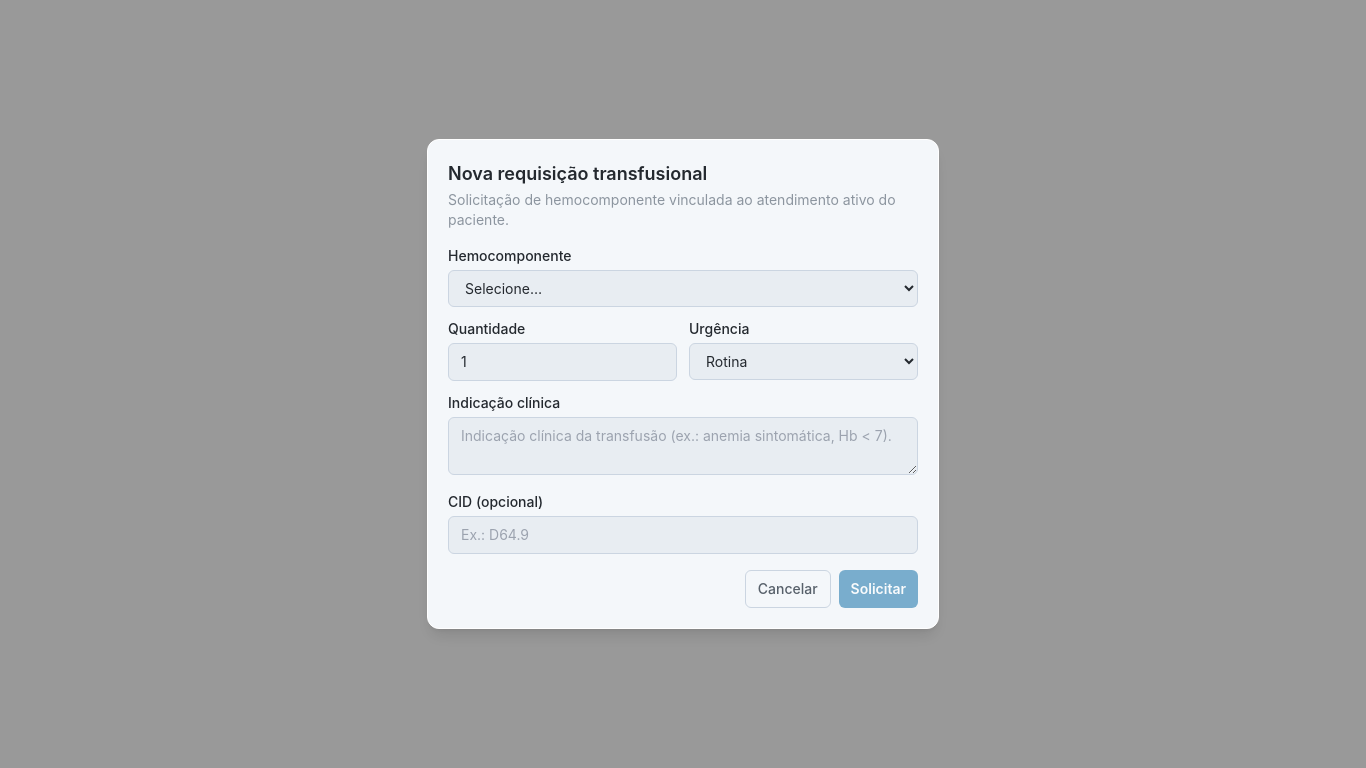
Test: TransfusionRequestForm › surfaces backend field validation errors (400) inline
The width and height of the screenshot is (1366, 768).
Step 1. Select "Concentrado de hemácias (CH)" in the dropdown labelled "Hemocomponente" → [683, 288], box [448,270,918,307]
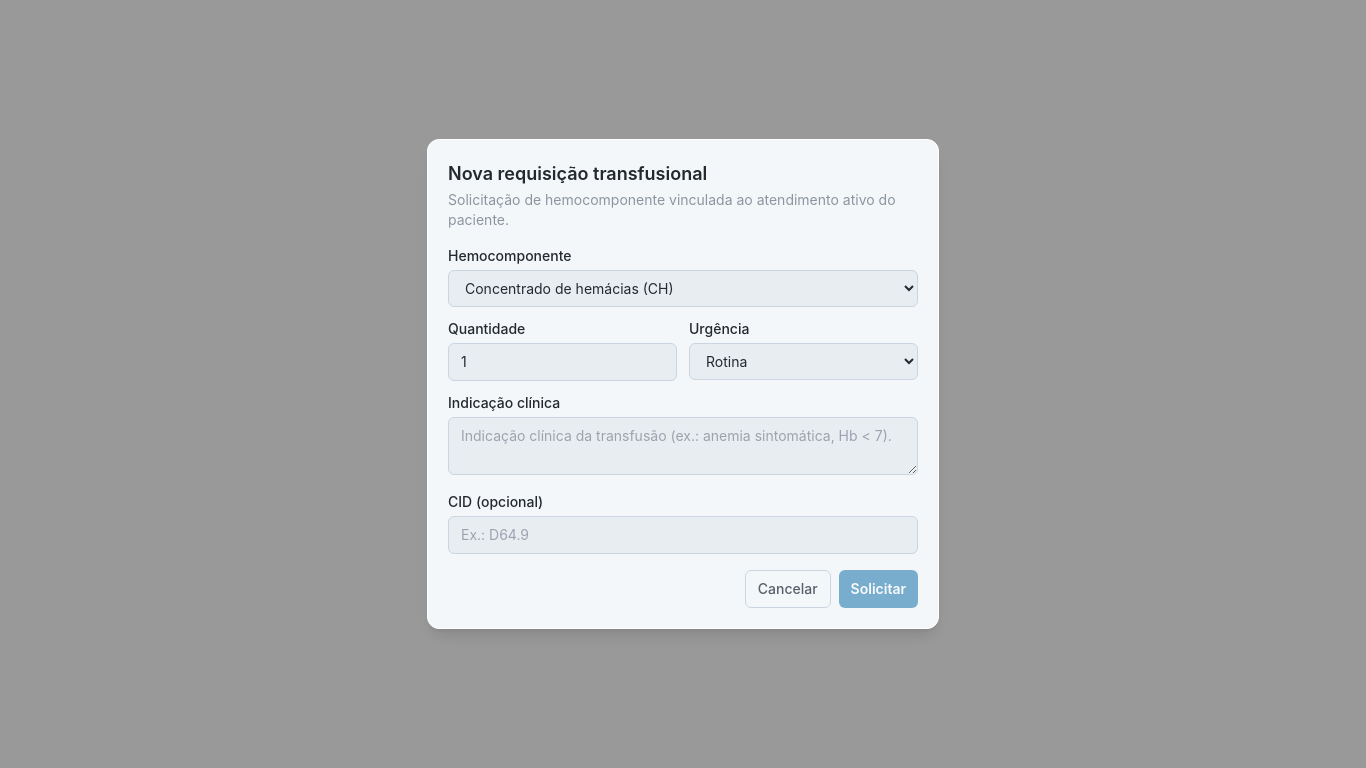
Step 2. Replace the text in the text box labelled "Indicação clínica" with "Anemia" → [683, 446], box [448,417,918,475]
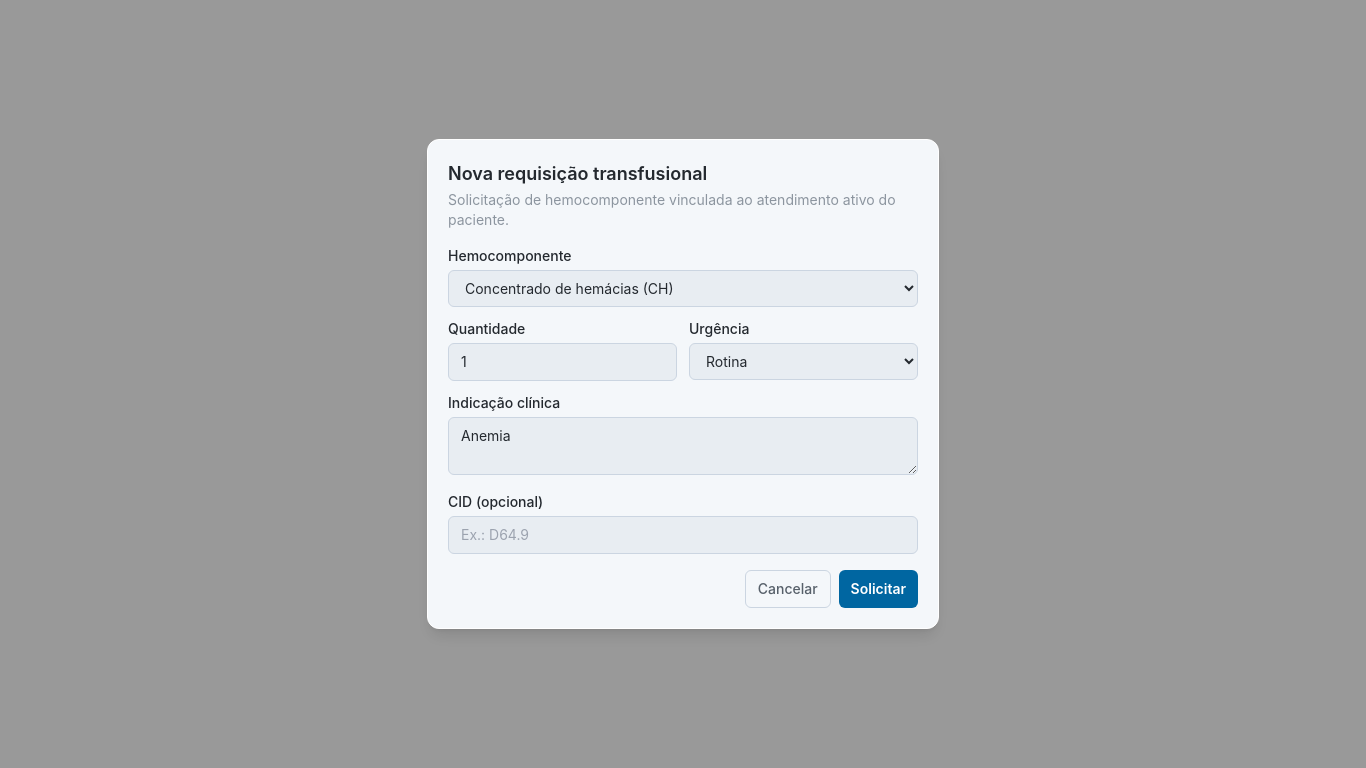
Step 3. Click the button "Solicitar" → [878, 589], box [839,570,918,608]
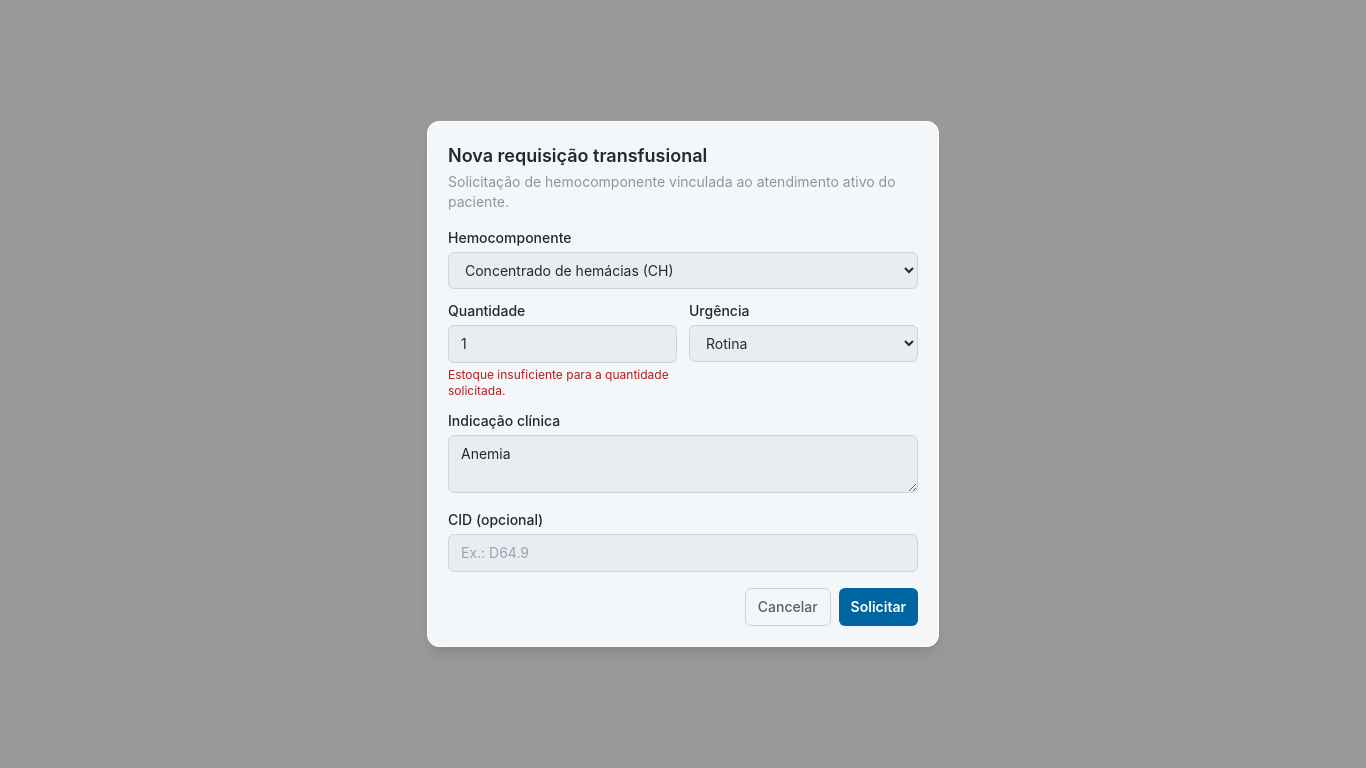
Expected: the text "Estoque insuficiente para a quantidade solicitada." is shown, [448,367,677,399]
